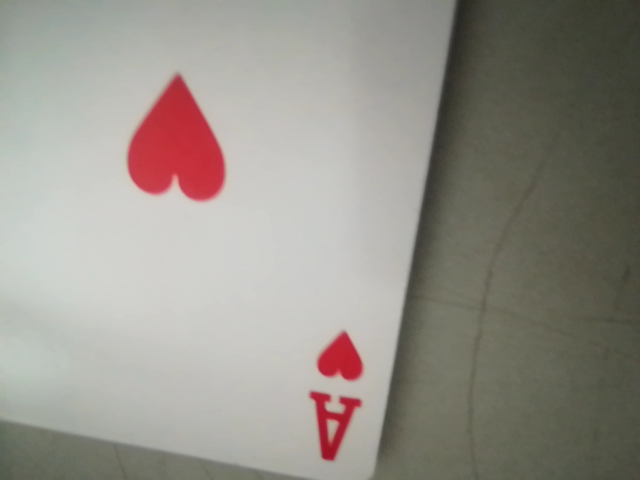hx a: (305, 328, 377, 467)
